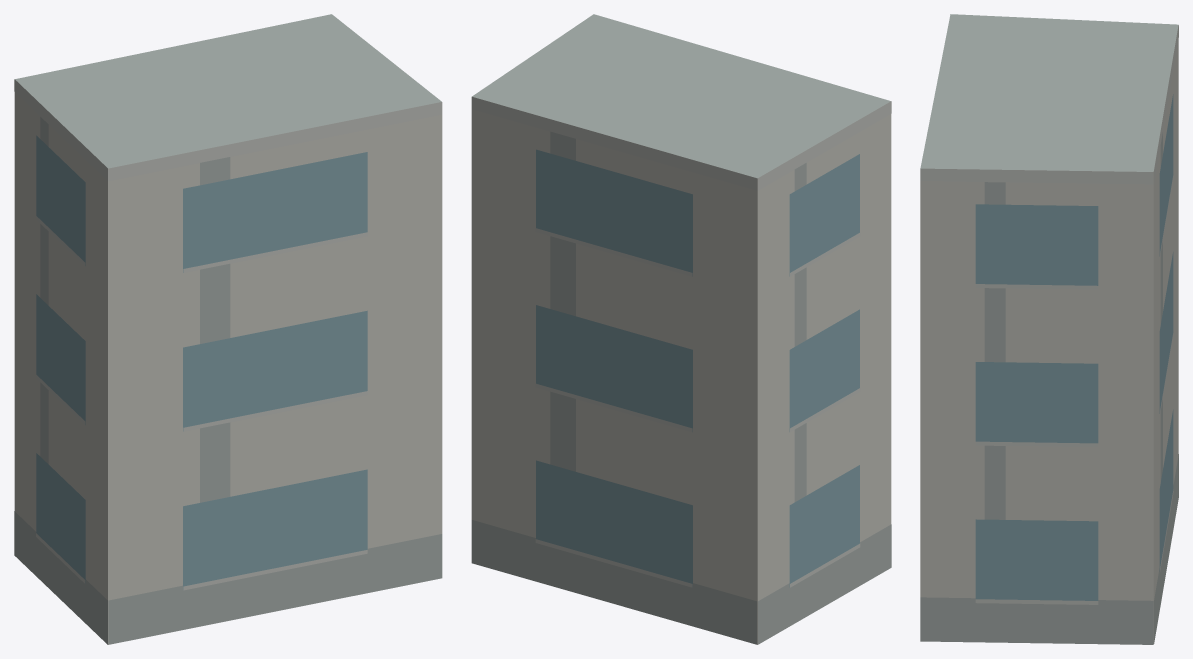
Rendered from survey-upis-32538372.glb.
3 renders of one model, left to right at view 1: azimuth 30°, elevation 25°; view 2: azimuth 150°, elevation 25°; view 3: azimuth 270°, elevation 25°, orthographic. The views are drawn at different scales.
Visible parts, largest first — view 1: survey-upis-32538372.tmp; view 2: survey-upis-32538372.tmp; view 3: survey-upis-32538372.tmp.
Boxes of the visible parts, x1,y1,x2,y2 form: survey-upis-32538372.tmp: (14, 14, 442, 644); survey-upis-32538372.tmp: (471, 14, 891, 644); survey-upis-32538372.tmp: (920, 14, 1178, 644).
Bounding box in the file's own units: 6.57 × 9.15 × 4.54.
